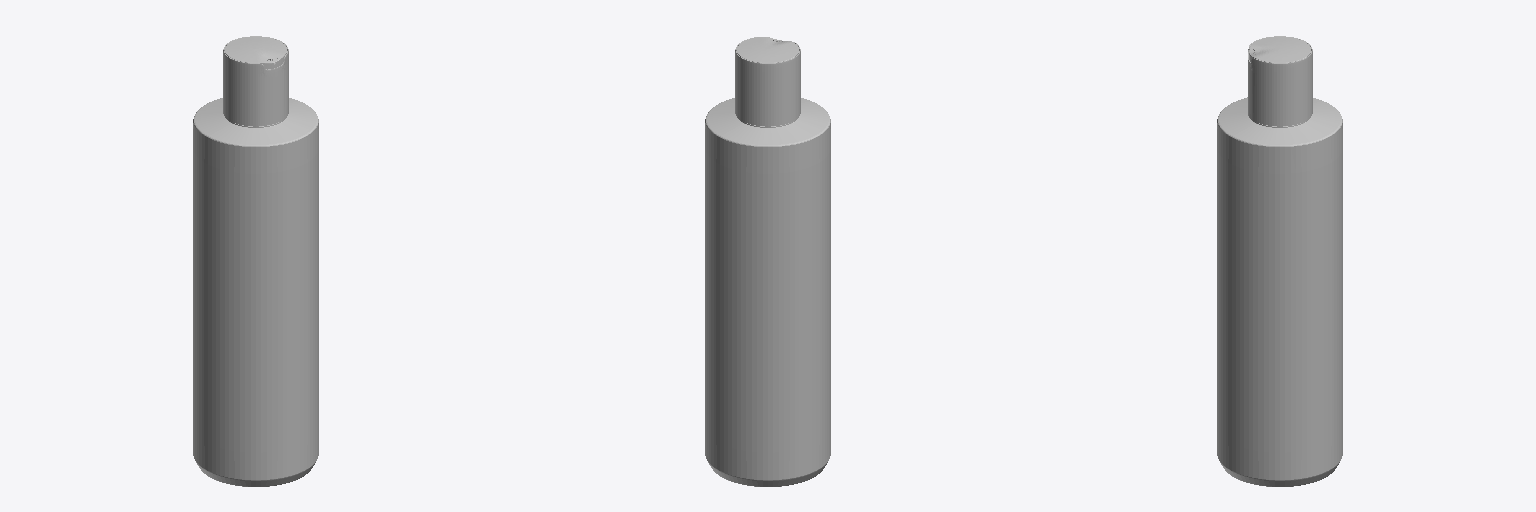
Rendered from large.obj.
3 views of the same model, side by side, from view 1: azimuth 30°, elevation 25°; view 2: azimuth 150°, elevation 25°; view 3: azimuth 270°, elevation 25° (orthographic).
Parts seen in each view (by area): view 1: etiketa, flaska, pokrovcek, stikalo_pokrovcek; view 2: etiketa, flaska, pokrovcek, stikalo_pokrovcek; view 3: etiketa, flaska, pokrovcek, stikalo_pokrovcek.
Part boxes in pixels (x1,y1,x2,y2): etiketa: (193, 150, 318, 452); flaska: (193, 98, 318, 486); pokrovcek: (223, 36, 288, 126); stikalo_pokrovcek: (225, 37, 286, 69); etiketa: (705, 150, 830, 452); flaska: (705, 98, 830, 486); pokrovcek: (735, 37, 800, 126); stikalo_pokrovcek: (737, 37, 798, 62); etiketa: (1217, 150, 1342, 452); flaska: (1217, 97, 1342, 486); pokrovcek: (1248, 36, 1312, 126); stikalo_pokrovcek: (1249, 37, 1310, 62).
Bounding box in the file's own units: 0.4906 × 1.78 × 0.4905.